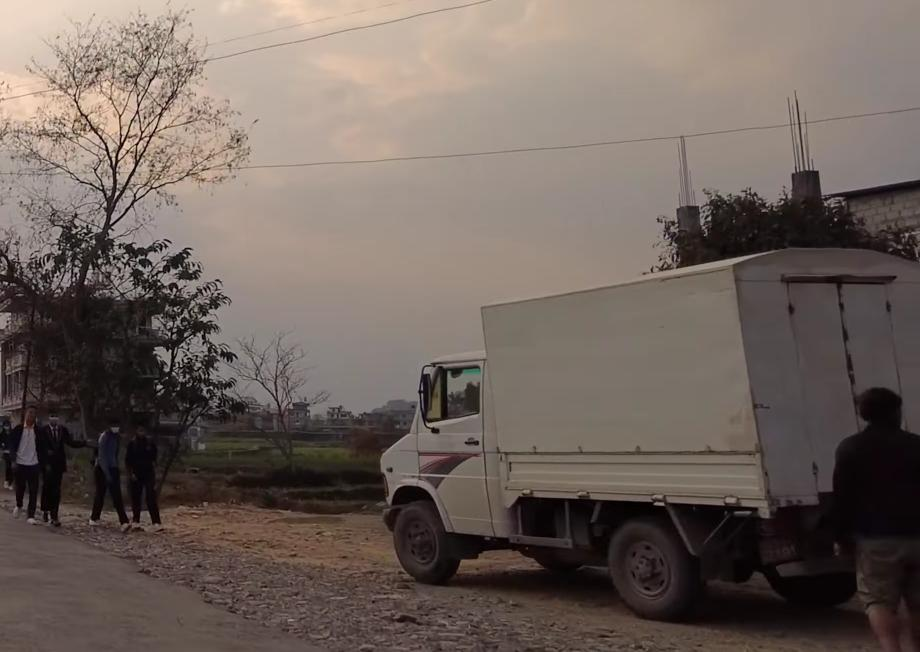mini_truck: (378, 237, 920, 624)
